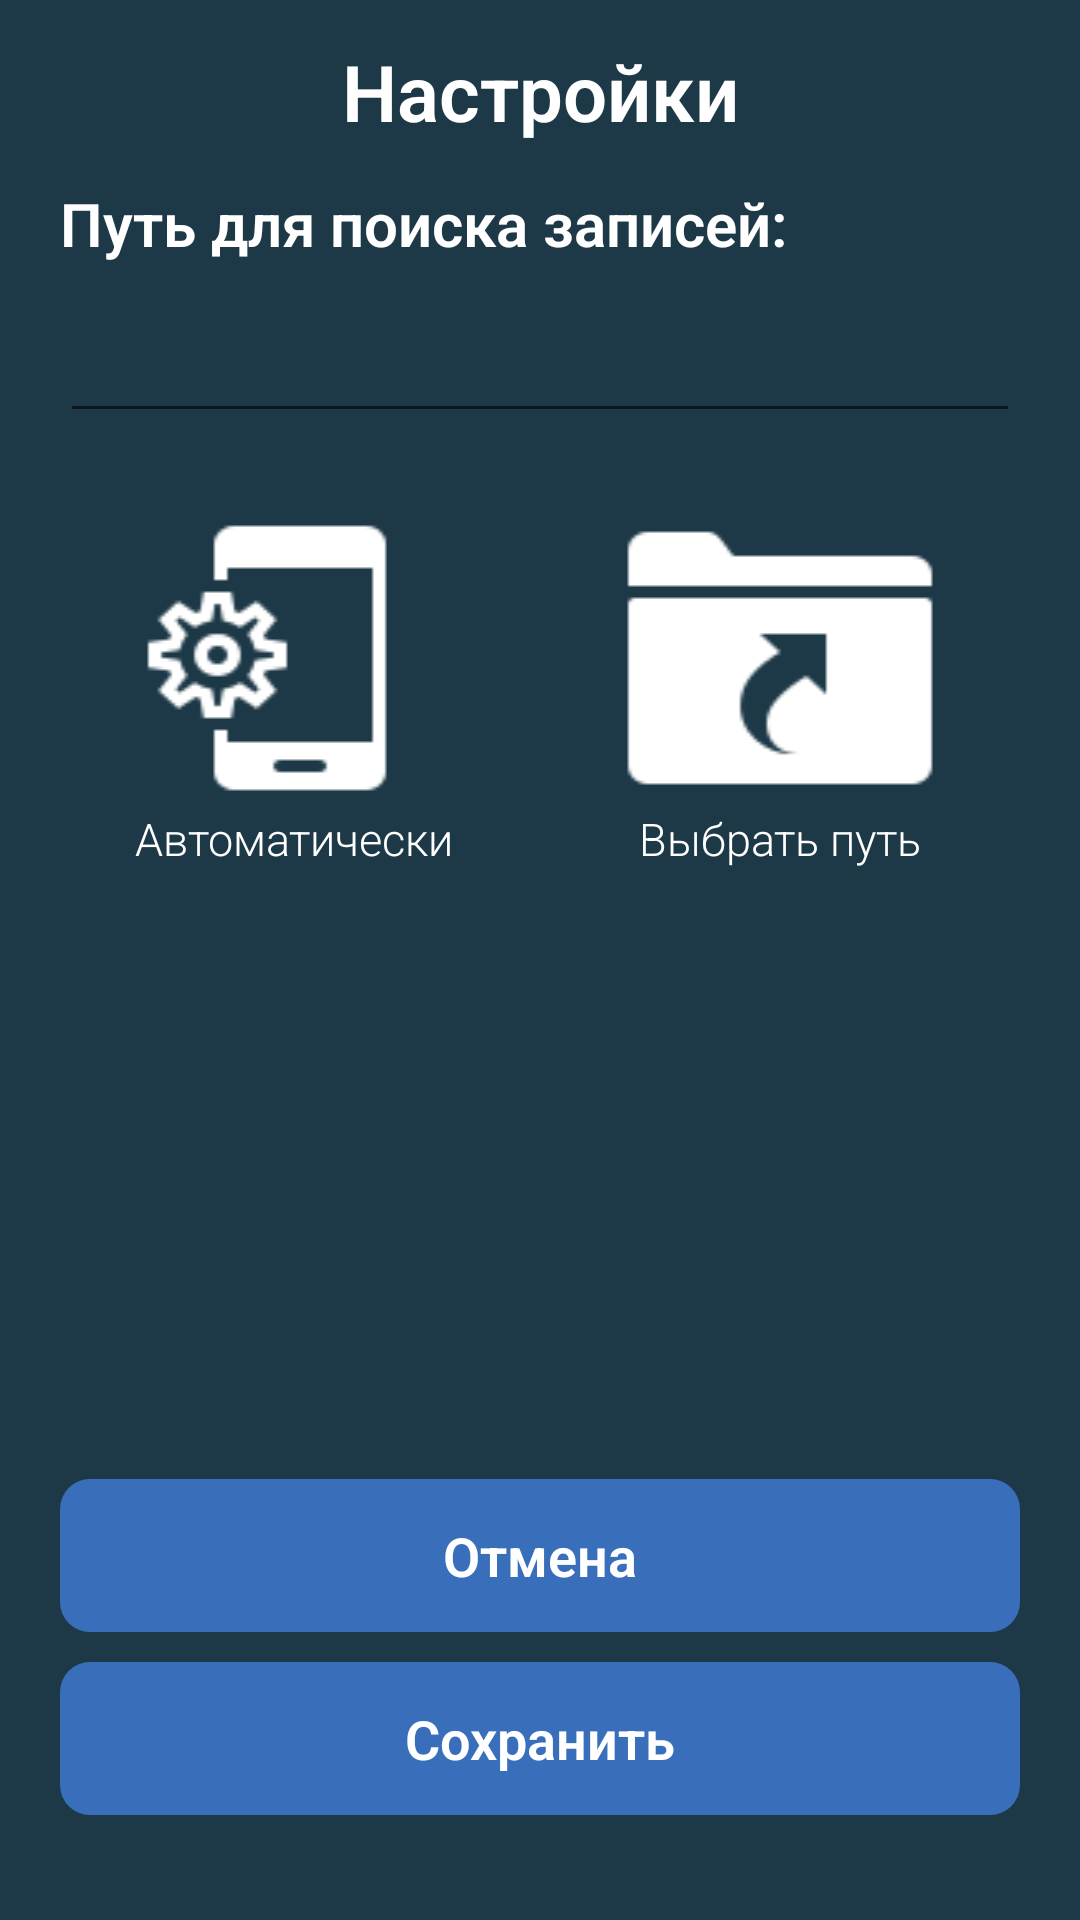

Icons on this 1080×1920 Android screen, each with its box as (x1, y1, x2, y2):
symlink directory: (627, 531, 933, 785)
